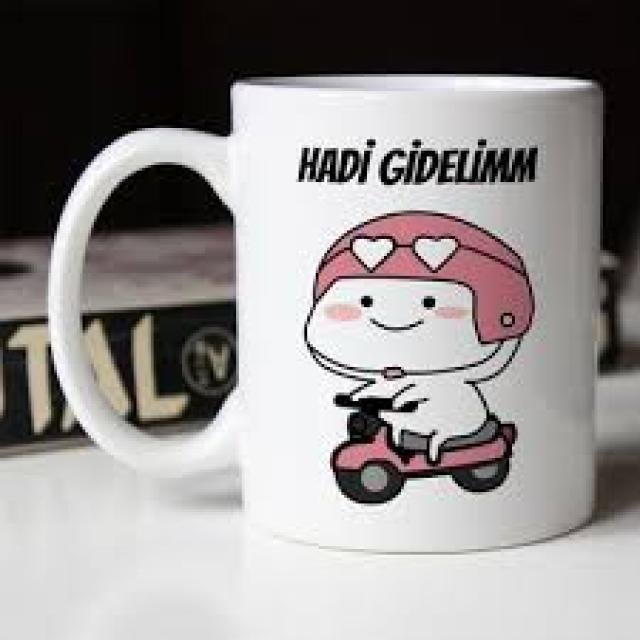taza: (48, 74, 606, 556)
